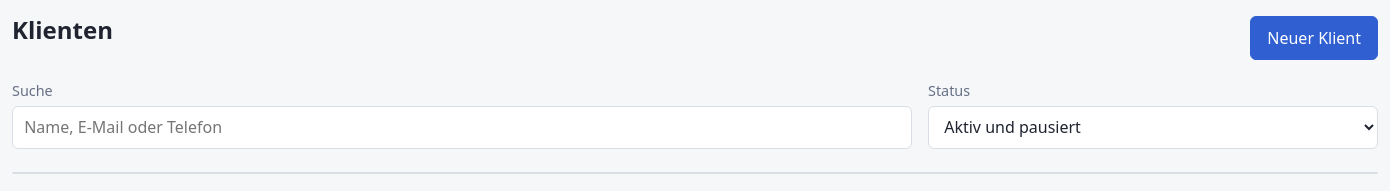
ClientListPage › "Neuer Klient" legt einen Klienten an und navigiert zum Profil
Click the button "Neuer Klient" at (1314, 38), box top-left (1250, 16), bottom-right (1378, 60)
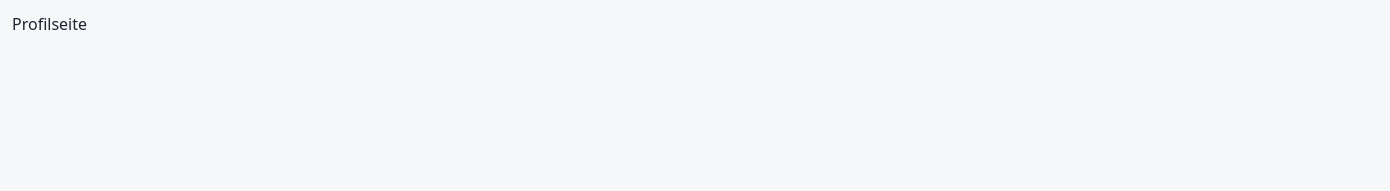
Now the text "Profilseite" is shown, box top-left (12, 13), bottom-right (87, 35)
